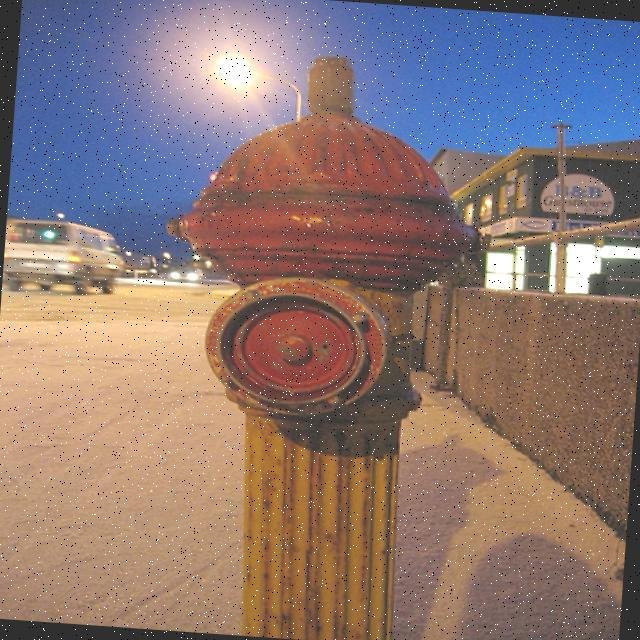fire_hydrant: (140, 51, 482, 639)
